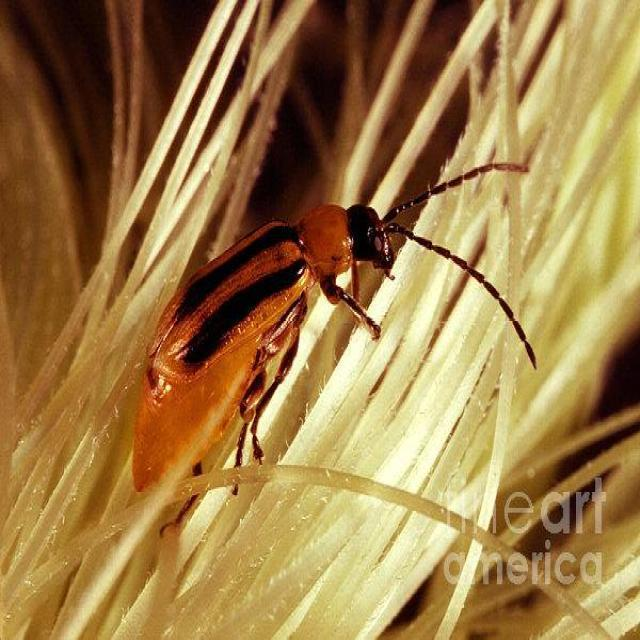trips: (130, 160, 538, 536)
